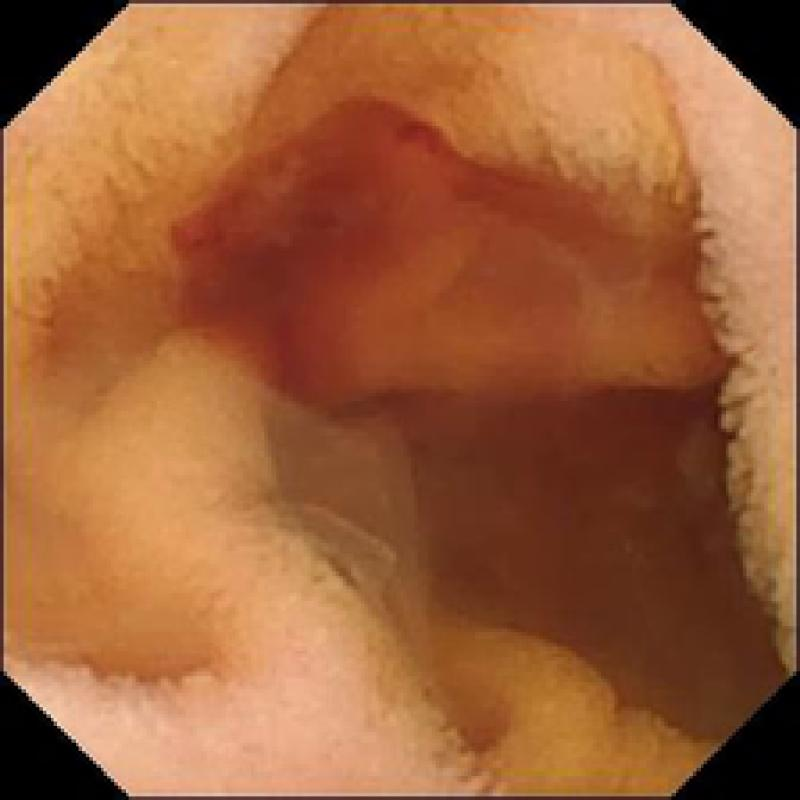bleeding: (168, 90, 614, 414)
